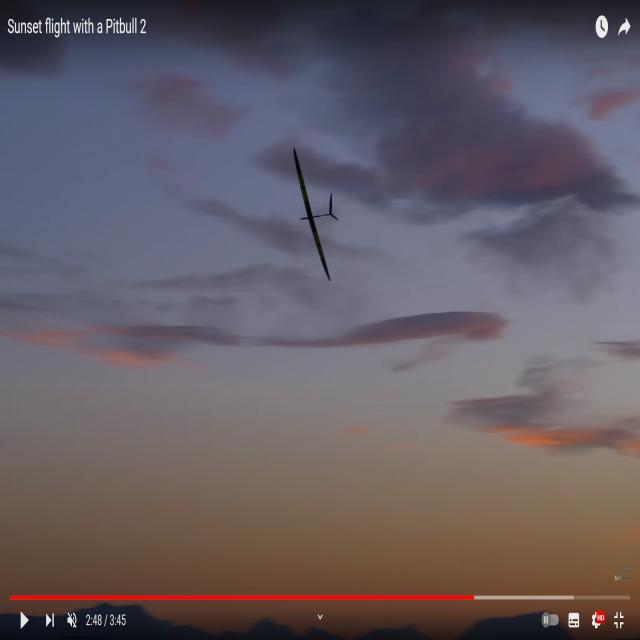iha: (294, 150, 339, 278)
